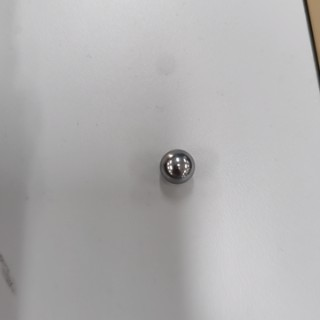ironball: (145, 130, 214, 200)
